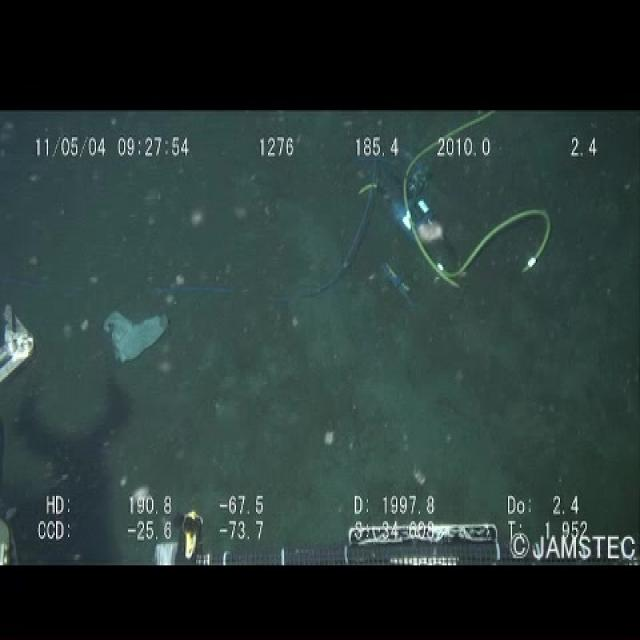plastic: (97, 302, 176, 363)
